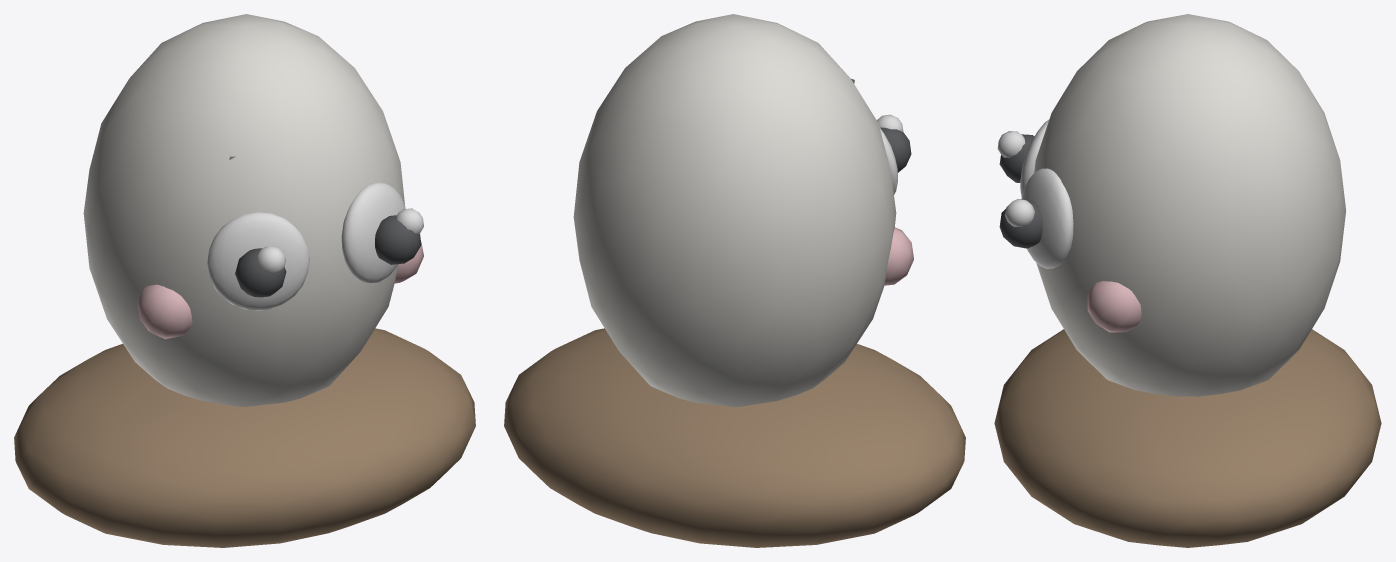
The model's file is character-egg.glb.
3 renders of one model, left to right at view 1: azimuth 30°, elevation 25°; view 2: azimuth 150°, elevation 25°; view 3: azimuth 270°, elevation 25°, orthographic. The views are drawn at different scales.
Visible parts, largest first — view 1: shell, soil, face-eye-r, face-eye-l, face-blush--1, face-pupil-l, face-pupil-r, face-spark-r; view 2: shell, soil, face-blush--1, face-pupil-r; view 3: shell, soil, face-eye-l, face-blush-1, face-pupil-l, face-eye-r, face-pupil-r, face-spark-l, face-spark-r.
Boxes of the visible parts, x1,y1,x2,y2 form: shell: [83, 14, 405, 406]; soil: [14, 328, 475, 547]; face-eye-r: [207, 212, 309, 310]; face-eye-l: [341, 182, 405, 284]; face-blush--1: [137, 284, 192, 339]; face-pupil-l: [375, 215, 421, 264]; face-pupil-r: [235, 248, 286, 297]; face-spark-r: [257, 246, 285, 274]; shell: [573, 14, 896, 406]; soil: [504, 328, 965, 547]; face-blush--1: [884, 227, 913, 285]; face-pupil-r: [880, 127, 911, 172]; shell: [1034, 14, 1346, 396]; soil: [994, 329, 1381, 547]; face-eye-l: [1022, 168, 1073, 268]; face-blush-1: [1087, 281, 1141, 332]; face-pupil-l: [999, 198, 1042, 248]; face-eye-r: [1020, 119, 1049, 197]; face-pupil-r: [999, 134, 1034, 182]; face-spark-l: [1005, 199, 1034, 226]; face-spark-r: [997, 131, 1025, 157].
Size of the model in its own units: 0.512 by 0.56 by 0.416.
